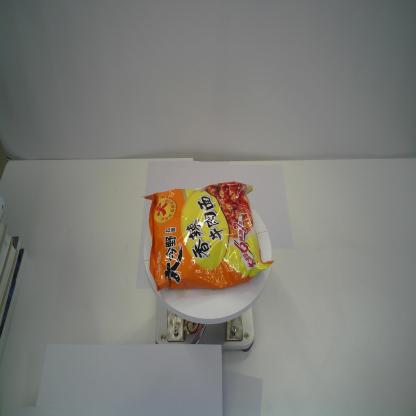Instant Noodles: (140, 180, 274, 294)
